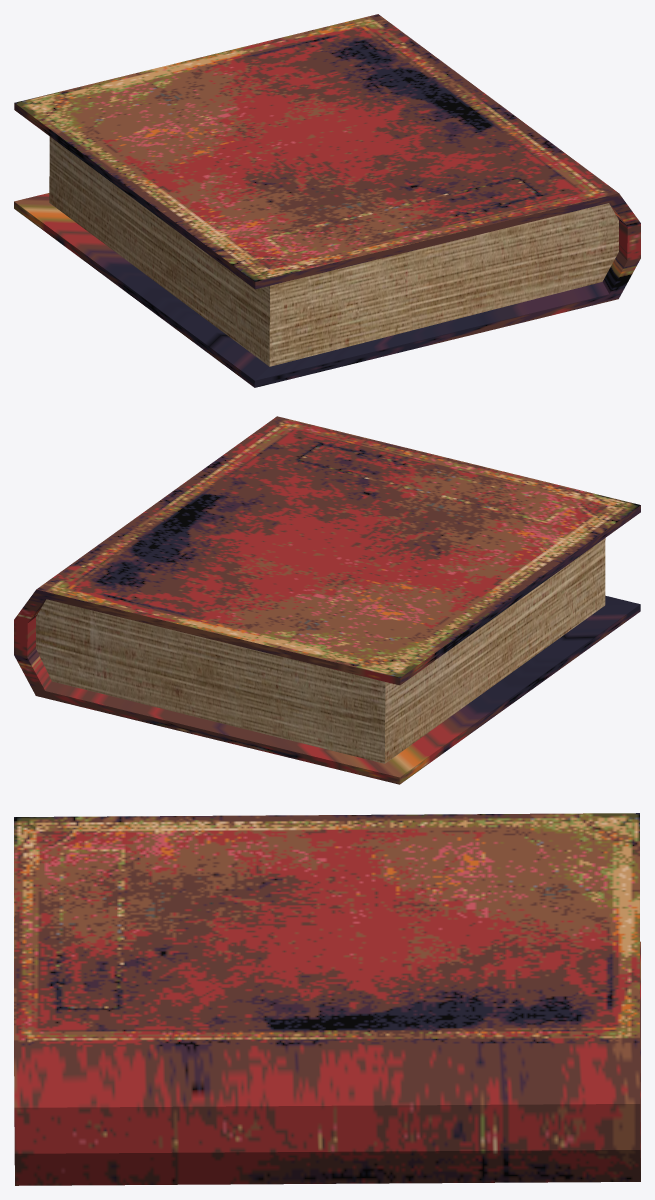
File: livrofudidocomtextura.fbx
The picture shows the model from 3 angles, top to bottom: view 1: azimuth 30°, elevation 25°; view 2: azimuth 150°, elevation 25°; view 3: azimuth 270°, elevation 25°; orthographic projection. The views are drawn at different scales.
Visible parts, largest first — view 1: Cube.001, Cube.002; view 2: Cube.001, Cube.002; view 3: Cube.001.
Part boxes in pixels (x1=…): Cube.001: x1=14, y1=14, x2=640, y2=387; Cube.002: x1=49, y1=136, x2=618, y2=366; Cube.001: x1=14, y1=416, x2=640, y2=784; Cube.002: x1=36, y1=538, x2=605, y2=763; Cube.001: x1=14, y1=813, x2=640, y2=1185.
Size of the model in its own units: 761 by 206 by 824.
Materials: 2 (2 with a texture image).
